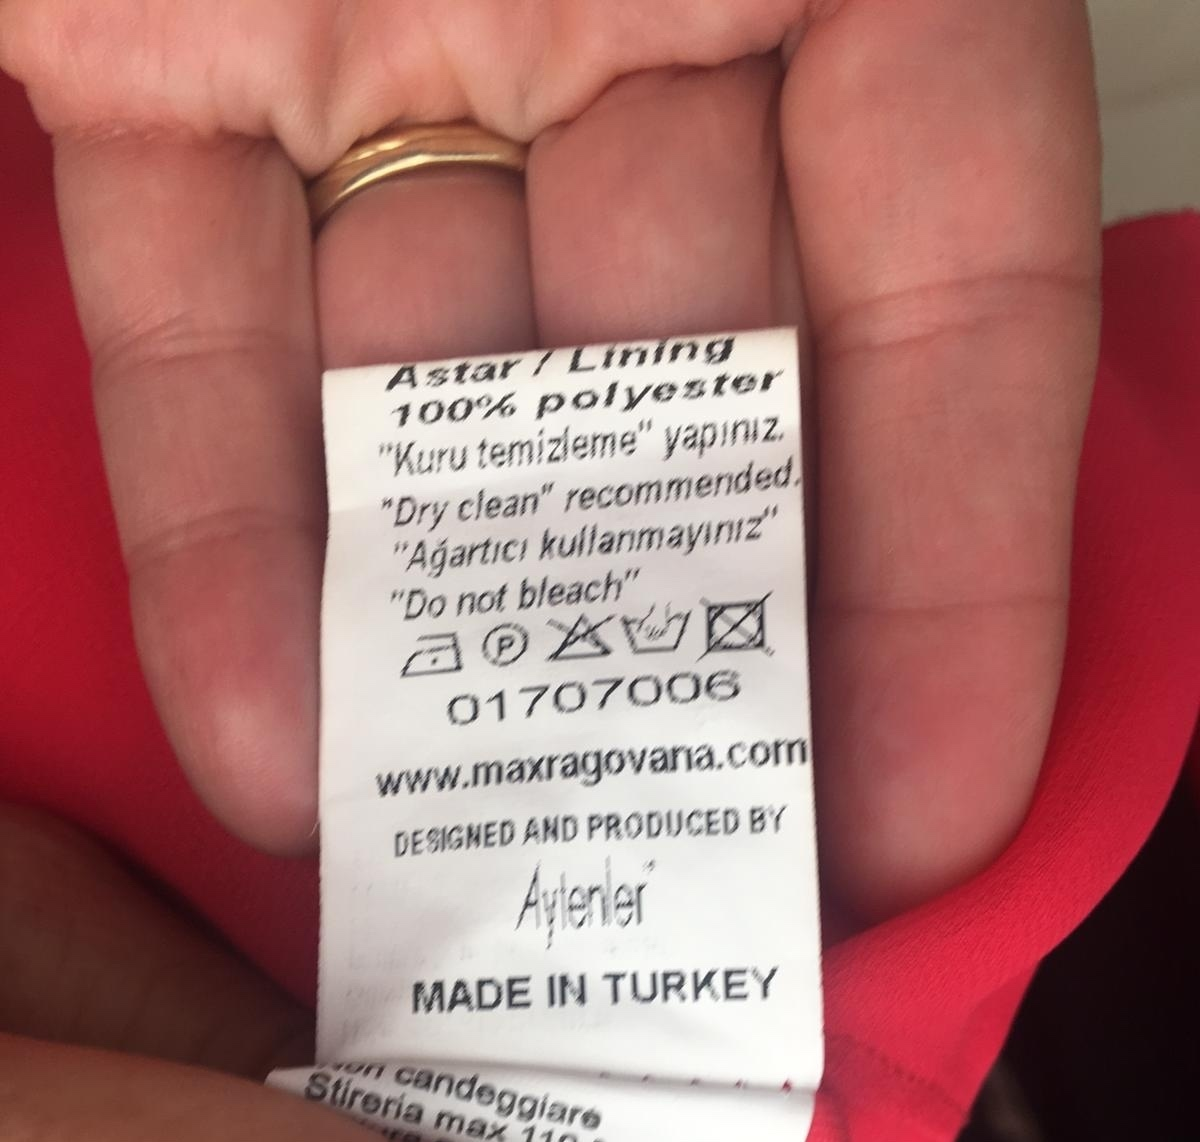do_not_bleach: (545, 608, 613, 666)
